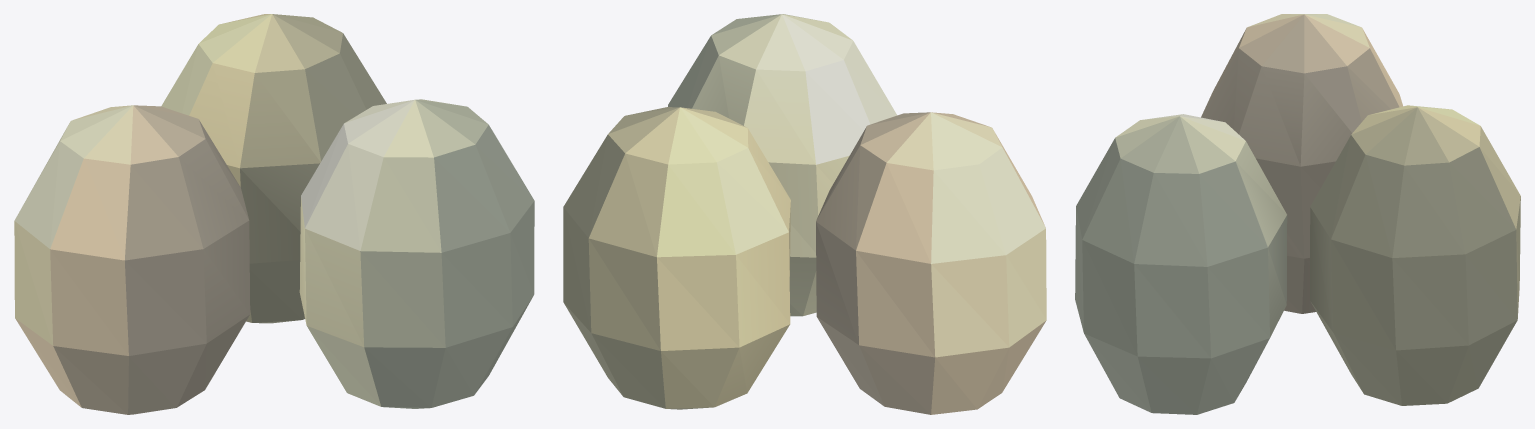
The model's file is find_duck_egg.glb.
3 views of the same model, side by side, from view 1: azimuth 30°, elevation 25°; view 2: azimuth 150°, elevation 25°; view 3: azimuth 270°, elevation 25° (orthographic). The views are drawn at different scales.
Visible parts, largest first — view 1: find_duck_egg; view 2: find_duck_egg; view 3: find_duck_egg.
Boxes of the visible parts, box(x1,y1,x2,y2) form: find_duck_egg: box(14, 14, 534, 414); find_duck_egg: box(563, 14, 1046, 414); find_duck_egg: box(1075, 14, 1520, 414).
Size of the model in its own units: 0.4118 by 0.29 by 0.3938.
